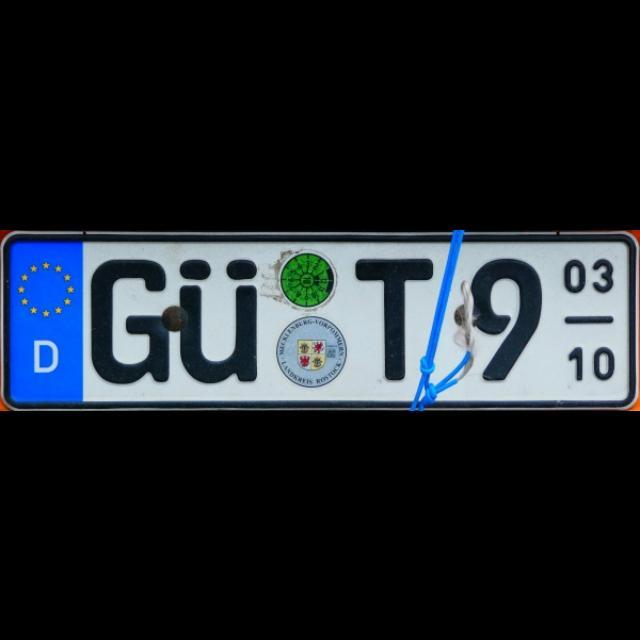license-plates: (1, 232, 640, 410)
